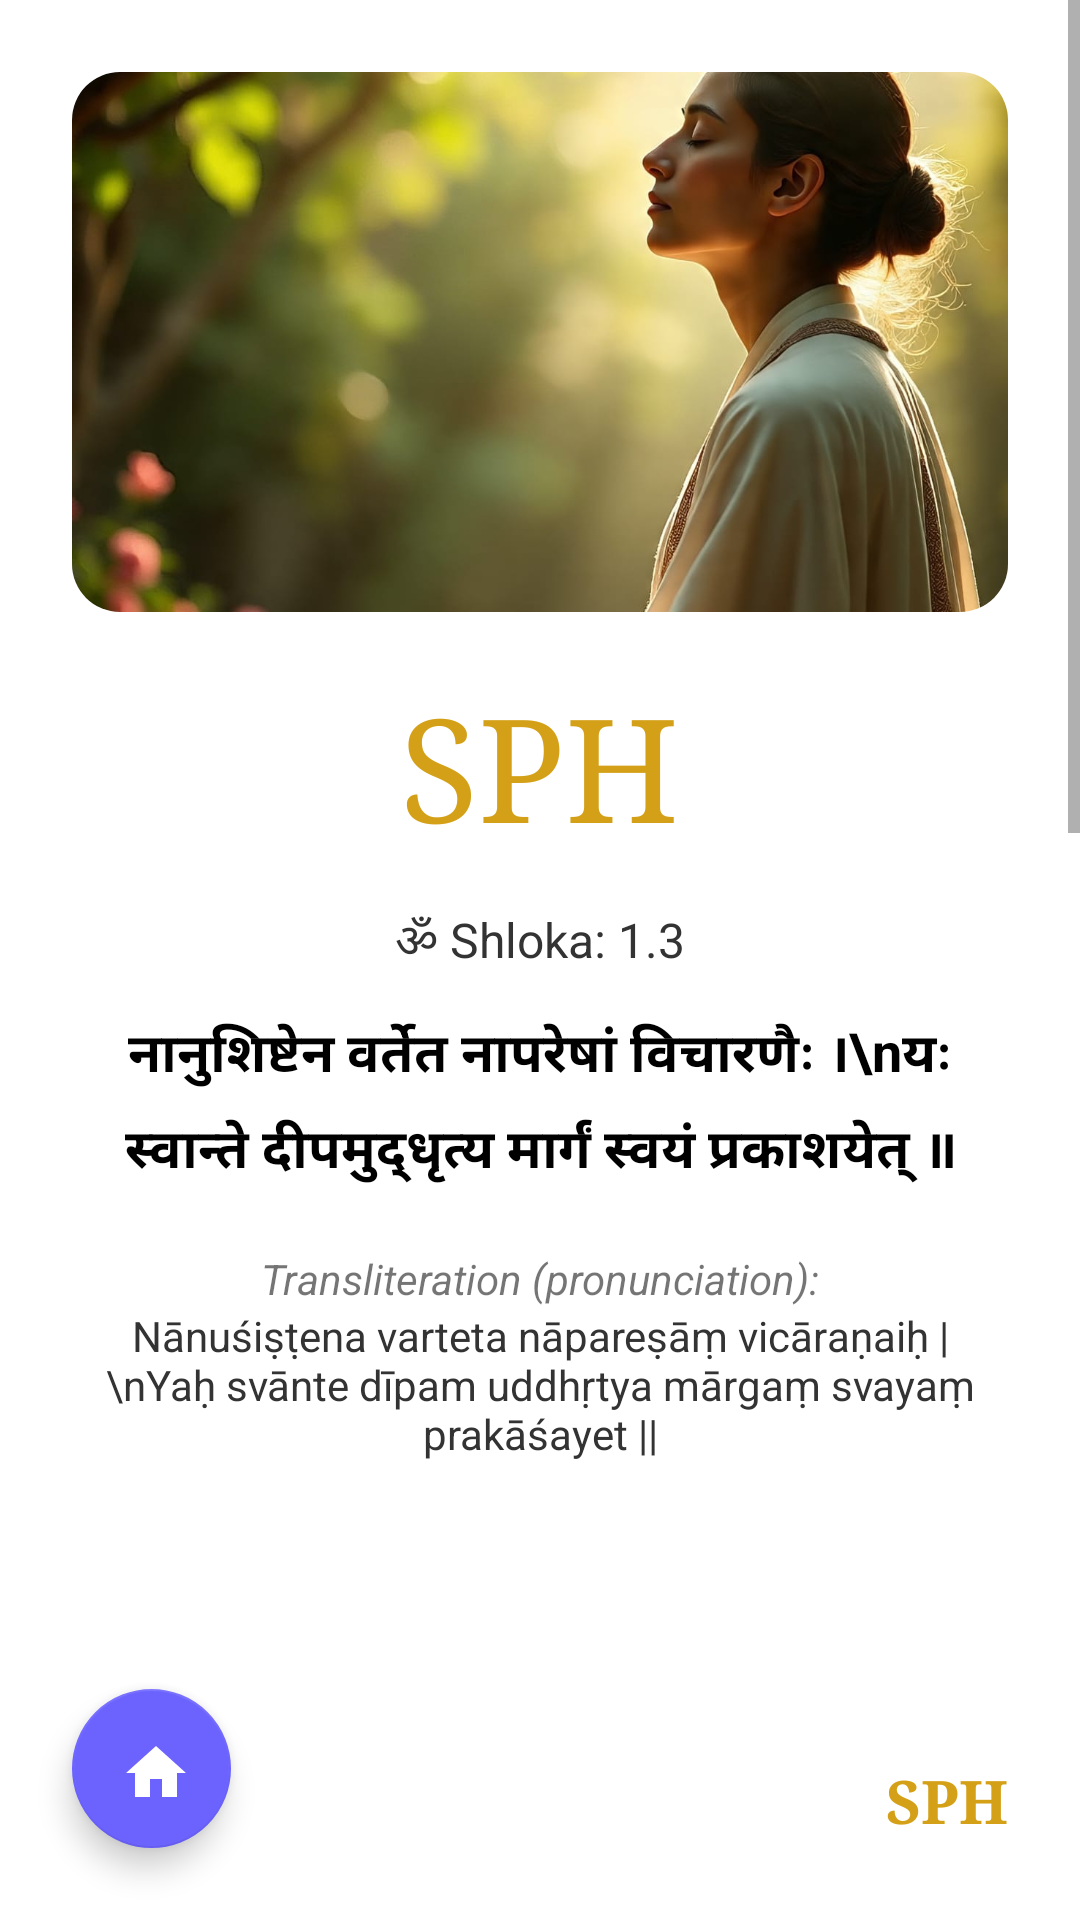

Where icons sit on this 1080 x 1920 app screen, as (x1, y1, x2, y2):
home: (72, 1689, 231, 1848)
